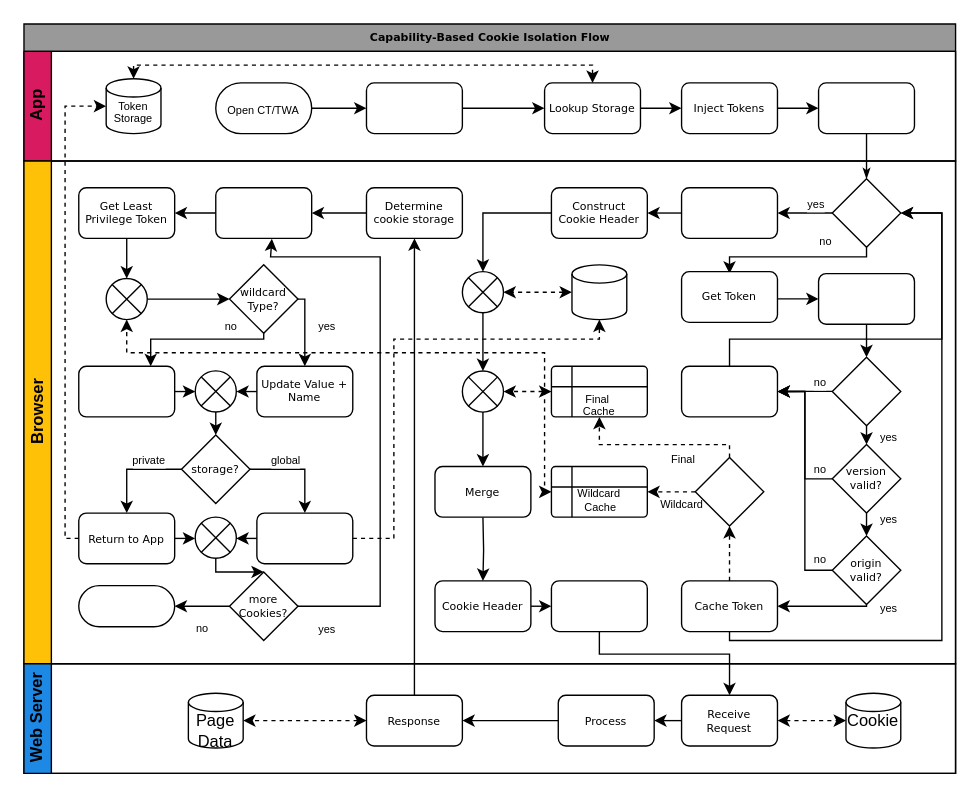
Image size: 980x797. Some labels were removed from this diagram. Each missing label, with the centre of its shape:
"All Cookies Processed" goes at [126,605].
"CT/TWA Intent" goes at [413,108].
"Decrypt" goes at [865,298].
"Discard" goes at [728,391].
"Get Cookie" goes at [263,212].
"Global Jar" goes at [599,291].
"Launch" goes at [865,108].
"Request" goes at [598,606].
"signature valid?" goes at [866,391].
"Store in Global Jar" goes at [304,538].
"Token Type?" goes at [729,491].
"Tokens Processed?" goes at [866,212].
"Update Value" goes at [126,391].
"Use Tokens" goes at [728,212].
